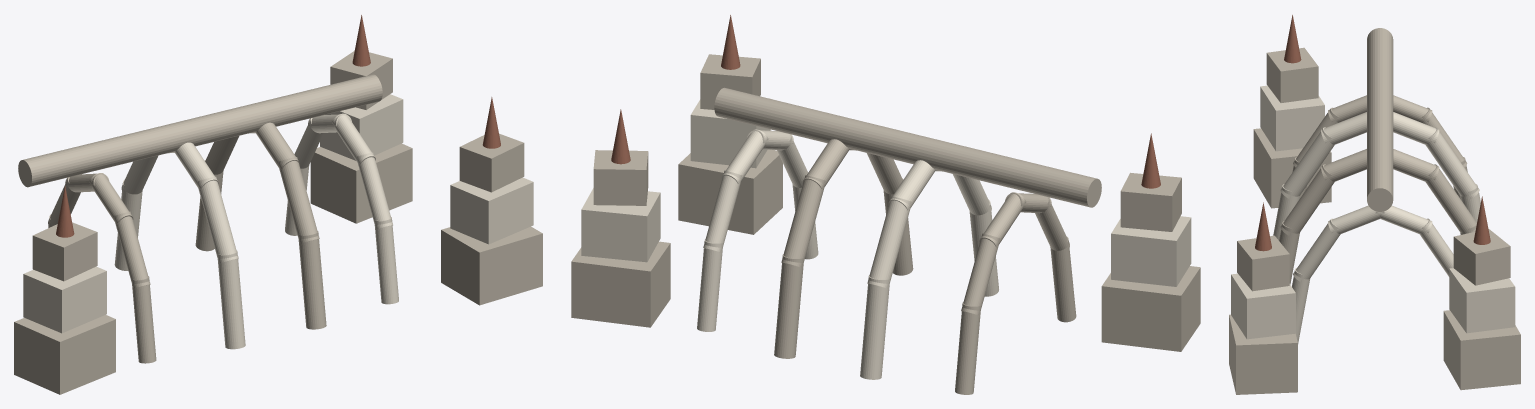
Rendered from bonetotem.glb.
The picture shows the model from 3 angles, left to right: view 1: azimuth 30°, elevation 25°; view 2: azimuth 150°, elevation 25°; view 3: azimuth 270°, elevation 25°; orthographic projection. The views are drawn at different scales.
Visible parts, largest first — view 1: Cylinder.024, Cube.006, Cube.003, Cube, Cube.004, Cube.007, Cube.008, Cube.005, Cube.001, Cylinder.012, Cylinder.006, Cylinder.013 (+21 smaller); view 2: Cylinder.024, Cube, Cube.003, Cube.006, Cube.004, Cube.001, Cube.005, Cube.002, Cube.007, Cylinder.009, Cylinder.015, Cube.008 (+22 smaller); view 3: Cylinder.024, Cube, Cube.006, Cube.001, Cube.007, Cube.004, Cube.002, Cube.003, Cube.008, Cube.005, Cylinder.013, Cylinder.007 (+21 smaller).
Boxes of the visible parts, x1,y1,x2,y2 form: Cylinder.024: [18, 74, 382, 187]; Cube.006: [441, 226, 542, 305]; Cube.003: [14, 315, 115, 394]; Cube: [310, 143, 412, 223]; Cube.004: [23, 266, 106, 333]; Cube.007: [450, 177, 533, 244]; Cube.008: [459, 133, 524, 192]; Cube.005: [32, 222, 97, 281]; Cube.001: [320, 94, 403, 160]; Cylinder.012: [298, 231, 326, 329]; Cylinder.006: [217, 251, 245, 349]; Cylinder.013: [278, 157, 319, 243]; Cylinder.024: [714, 87, 1101, 207]; Cube: [571, 241, 670, 327]; Cube.003: [1101, 266, 1200, 351]; Cube.006: [678, 149, 782, 234]; Cube.004: [1111, 216, 1191, 286]; Cube.001: [581, 188, 660, 262]; Cube.005: [1120, 172, 1181, 231]; Cube.002: [593, 150, 648, 205]; Cube.007: [690, 98, 770, 168]; Cylinder.009: [860, 275, 889, 379]; Cylinder.015: [774, 254, 803, 358]; Cube.008: [700, 54, 760, 109]; Cylinder.024: [1367, 28, 1393, 211]; Cube: [1443, 310, 1520, 390]; Cube.006: [1229, 314, 1297, 394]; Cube.001: [1449, 268, 1515, 333]; Cube.007: [1231, 273, 1295, 339]; Cube.004: [1260, 85, 1324, 151]; Cube.002: [1453, 229, 1510, 285]; Cube.003: [1253, 128, 1331, 208]; Cube.008: [1237, 235, 1289, 291]; Cube.005: [1266, 47, 1318, 102]; Cylinder.013: [1280, 164, 1334, 235]; Cylinder.007: [1280, 127, 1334, 198].
Size of the model in its own units: 7.23 by 2.78 by 4.
